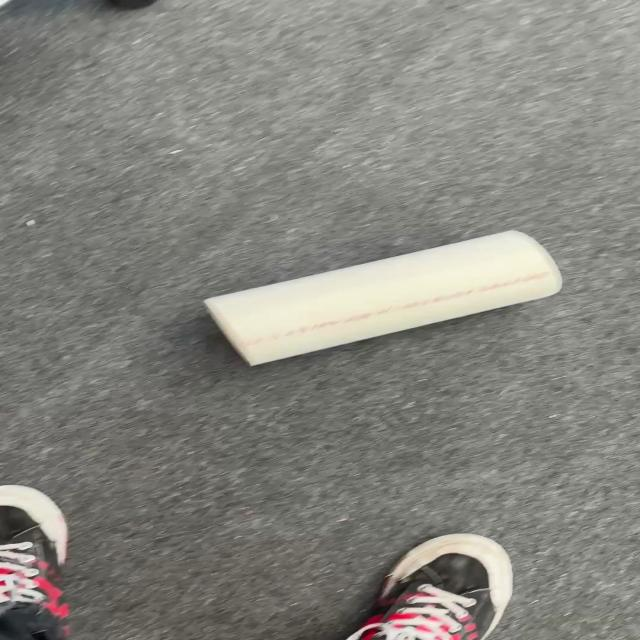Coral: (201, 229, 563, 367)
